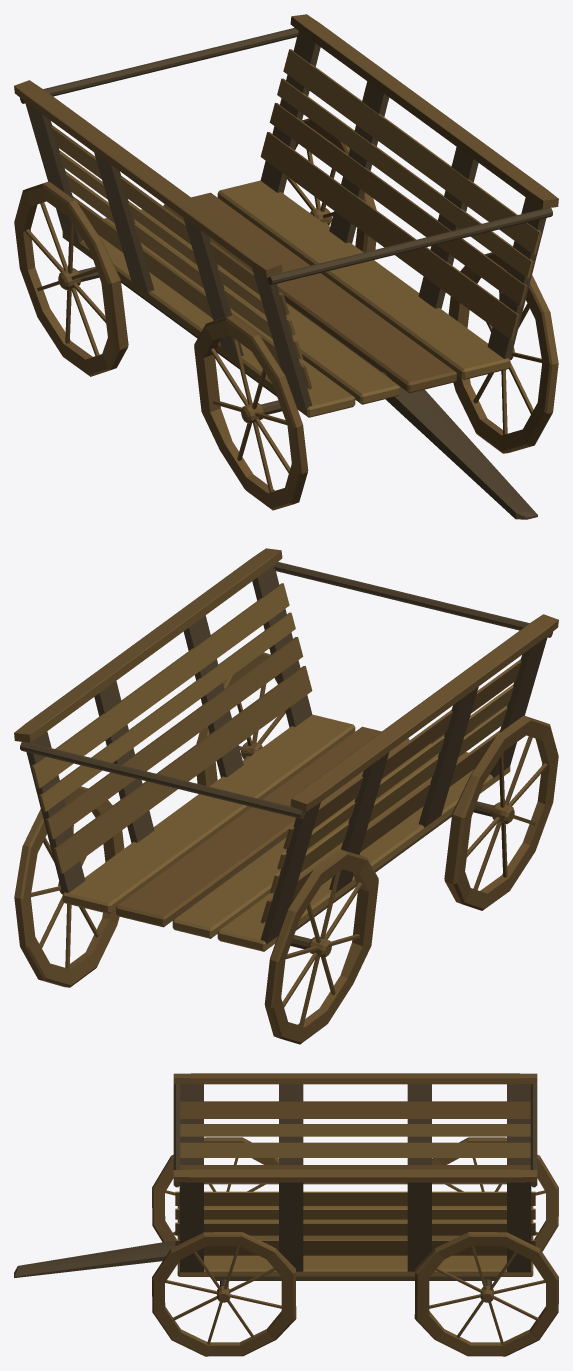
File: Cart_1.fbx
3 renders of one model, top to bottom at view 1: azimuth 30°, elevation 25°; view 2: azimuth 150°, elevation 25°; view 3: azimuth 270°, elevation 25°, orthographic. The views are drawn at different scales.
Visible parts, largest first — view 1: Cube.049, Cube.056, Cube.055, Cube.048, Cube.050, Cube.058, Cube.059, Cube.052, Cube.057, Cube.054, Cube.053, Cube.047 (+5 smaller); view 2: Cube.049, Cube.056, Cube.055, Cube.048, Cube.050, Cube.058, Cube.059, Cube.052, Cube.057, Cube.054, Cube.053, Cube.051 (+4 smaller); view 3: Cube.049, Cube.056, Cube.055, Cube.063, Cube.061, Cube.048, Cube.062, Cube.059, Cube.052, Cube.053, Cube.058, Cube.060 (+6 smaller).
Boxes of the visible parts, bbox=[...] form: Cube.049: bbox=[14, 118, 558, 510]; Cube.056: bbox=[25, 31, 546, 410]; Cube.055: bbox=[14, 14, 558, 277]; Cube.048: bbox=[217, 180, 510, 379]; Cube.050: bbox=[163, 192, 456, 393]; Cube.058: bbox=[260, 132, 519, 339]; Cube.059: bbox=[283, 49, 541, 254]; Cube.052: bbox=[269, 102, 527, 305]; Cube.057: bbox=[20, 27, 552, 285]; Cube.054: bbox=[62, 218, 355, 417]; Cube.053: bbox=[277, 78, 533, 277]; Cube.047: bbox=[381, 372, 537, 519]; Cube.049: bbox=[14, 652, 558, 1044]; Cube.056: bbox=[26, 565, 547, 944]; Cube.055: bbox=[14, 548, 558, 811]; Cube.048: bbox=[62, 714, 355, 913]; Cube.050: bbox=[116, 726, 409, 927]; Cube.058: bbox=[53, 666, 312, 873]; Cube.059: bbox=[31, 583, 289, 788]; Cube.052: bbox=[45, 637, 303, 839]; Cube.057: bbox=[20, 562, 552, 819]; Cube.054: bbox=[217, 752, 510, 951]; Cube.053: bbox=[39, 612, 295, 811]; Cube.051: bbox=[172, 743, 438, 938]; Cube.049: bbox=[152, 1137, 558, 1356]; Cube.056: bbox=[179, 1084, 531, 1272]; Cube.055: bbox=[173, 1073, 537, 1182]; Cube.063: bbox=[180, 1101, 530, 1118]; Cube.061: bbox=[180, 1142, 530, 1157]; Cube.048: bbox=[177, 1255, 533, 1276]; Cube.062: bbox=[180, 1124, 530, 1136]; Cube.059: bbox=[175, 1191, 535, 1205]; Cube.052: bbox=[175, 1222, 535, 1235]; Cube.053: bbox=[175, 1208, 535, 1219]; Cube.058: bbox=[175, 1239, 535, 1255]; Cube.060: bbox=[180, 1165, 530, 1184].
Size of the model in its own units: 290 by 249 by 643.
